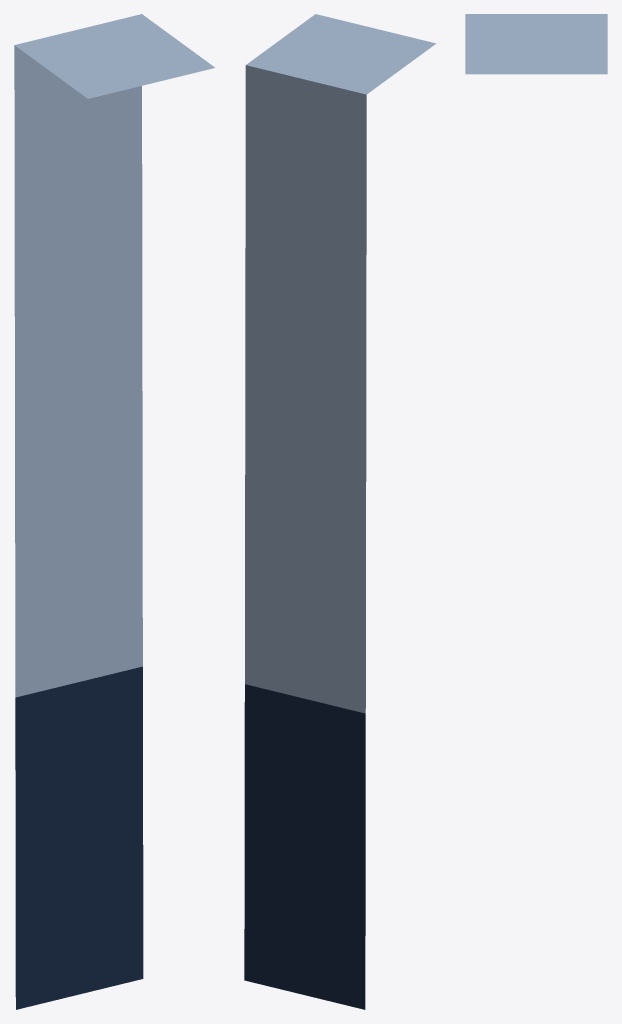
Rendered from Wall.fbx.
3 views of the same model, side by side, from view 1: azimuth 30°, elevation 25°; view 2: azimuth 150°, elevation 25°; view 3: azimuth 270°, elevation 25° (orthographic). The views are drawn at different scales.
Visible parts, largest first — view 1: BackCorner; view 2: BackCorner; view 3: BackCorner.
Boxes of the visible parts, <box> form: BackCorner: <box>14,14,214,1009</box>; BackCorner: <box>244,14,436,1009</box>; BackCorner: <box>465,14,607,74</box>.
Bounding box in the file's own units: 39.43 × 282 × 39.
